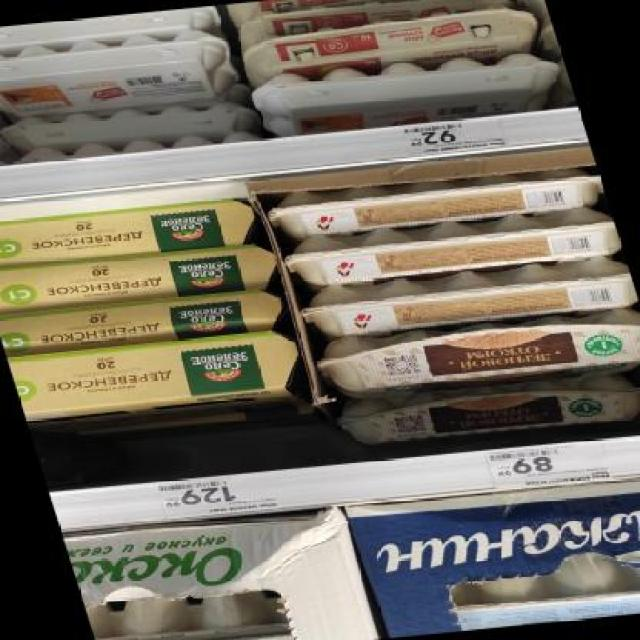Egg: (308, 307, 640, 399), (331, 368, 640, 450), (233, 4, 544, 82), (1, 26, 244, 125), (231, 0, 514, 45), (85, 585, 300, 640)
